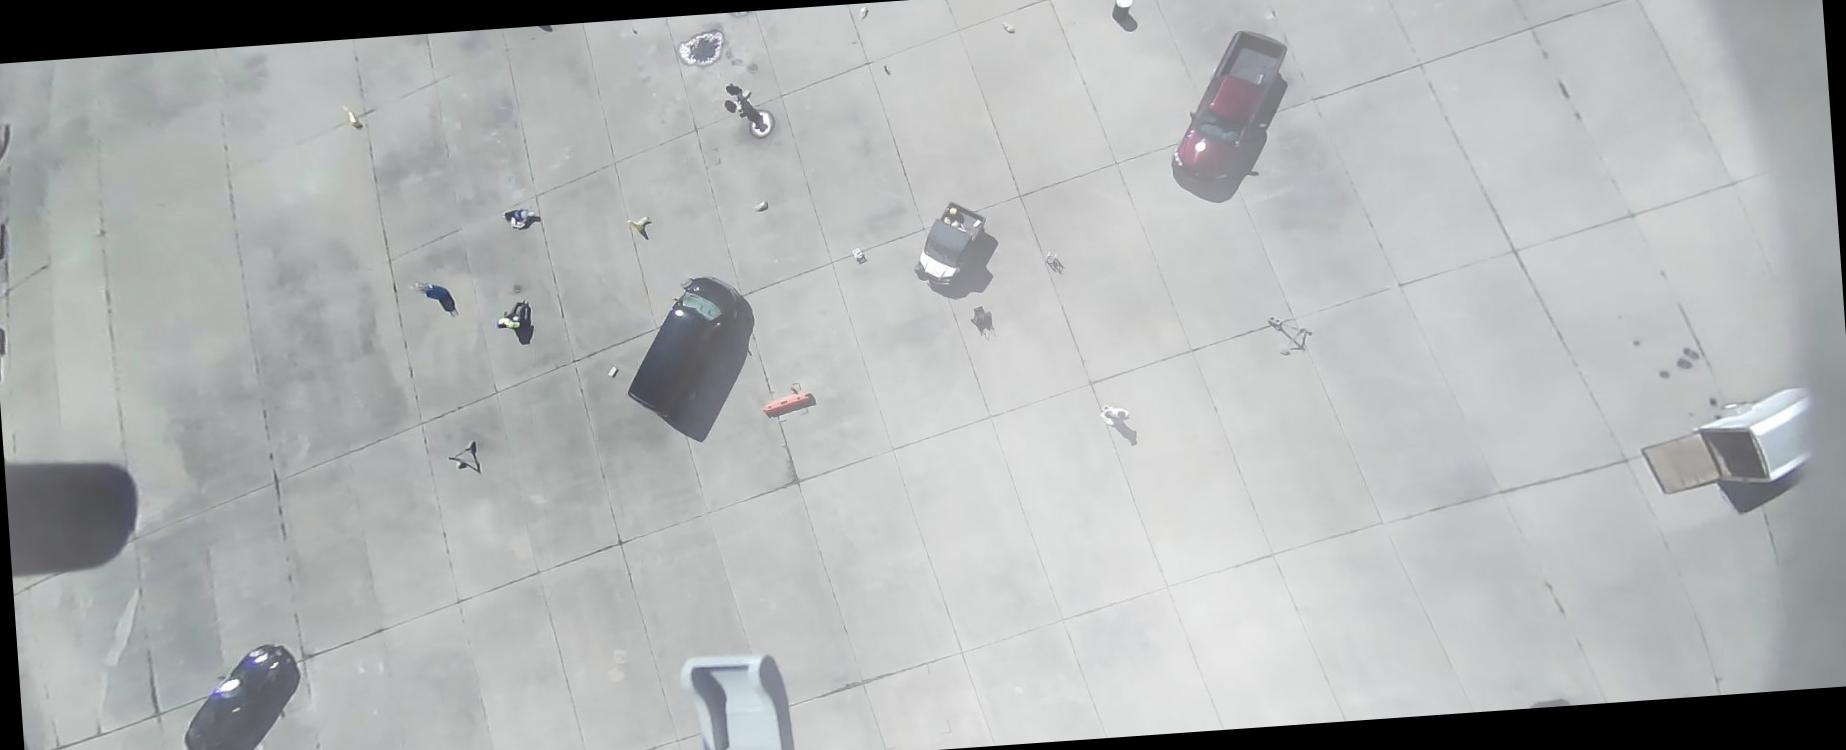vehicle: (1162, 28, 1297, 190), (618, 273, 750, 423), (177, 642, 299, 749), (908, 199, 991, 292)
